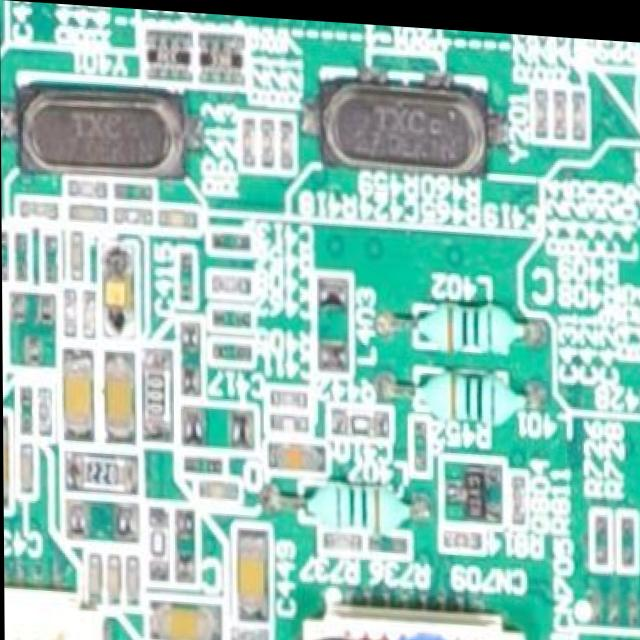capacitor: (235, 523, 273, 622), (149, 598, 222, 640), (104, 348, 135, 443), (61, 347, 92, 441), (329, 404, 390, 435), (61, 202, 110, 227), (211, 336, 253, 365), (268, 405, 311, 433), (177, 247, 196, 307), (158, 203, 199, 230), (211, 226, 252, 252), (85, 549, 103, 608), (2, 413, 12, 510), (124, 549, 141, 606), (211, 304, 251, 328), (19, 442, 35, 496), (106, 553, 122, 605)
connector: (299, 587, 522, 640), (3, 586, 92, 640)
resistor: (173, 509, 194, 580), (207, 265, 252, 297), (616, 498, 638, 563), (64, 173, 109, 203), (150, 506, 169, 577), (590, 500, 611, 561), (409, 408, 429, 472), (17, 197, 61, 225), (317, 522, 364, 548), (507, 463, 528, 520), (438, 522, 484, 548), (112, 176, 157, 201), (278, 115, 296, 174), (243, 110, 260, 168), (366, 530, 408, 553), (259, 113, 275, 173), (535, 82, 553, 135), (114, 205, 152, 229), (552, 79, 568, 136), (227, 619, 270, 640), (571, 81, 586, 139), (267, 385, 305, 406)
transistor: (440, 451, 504, 523)
